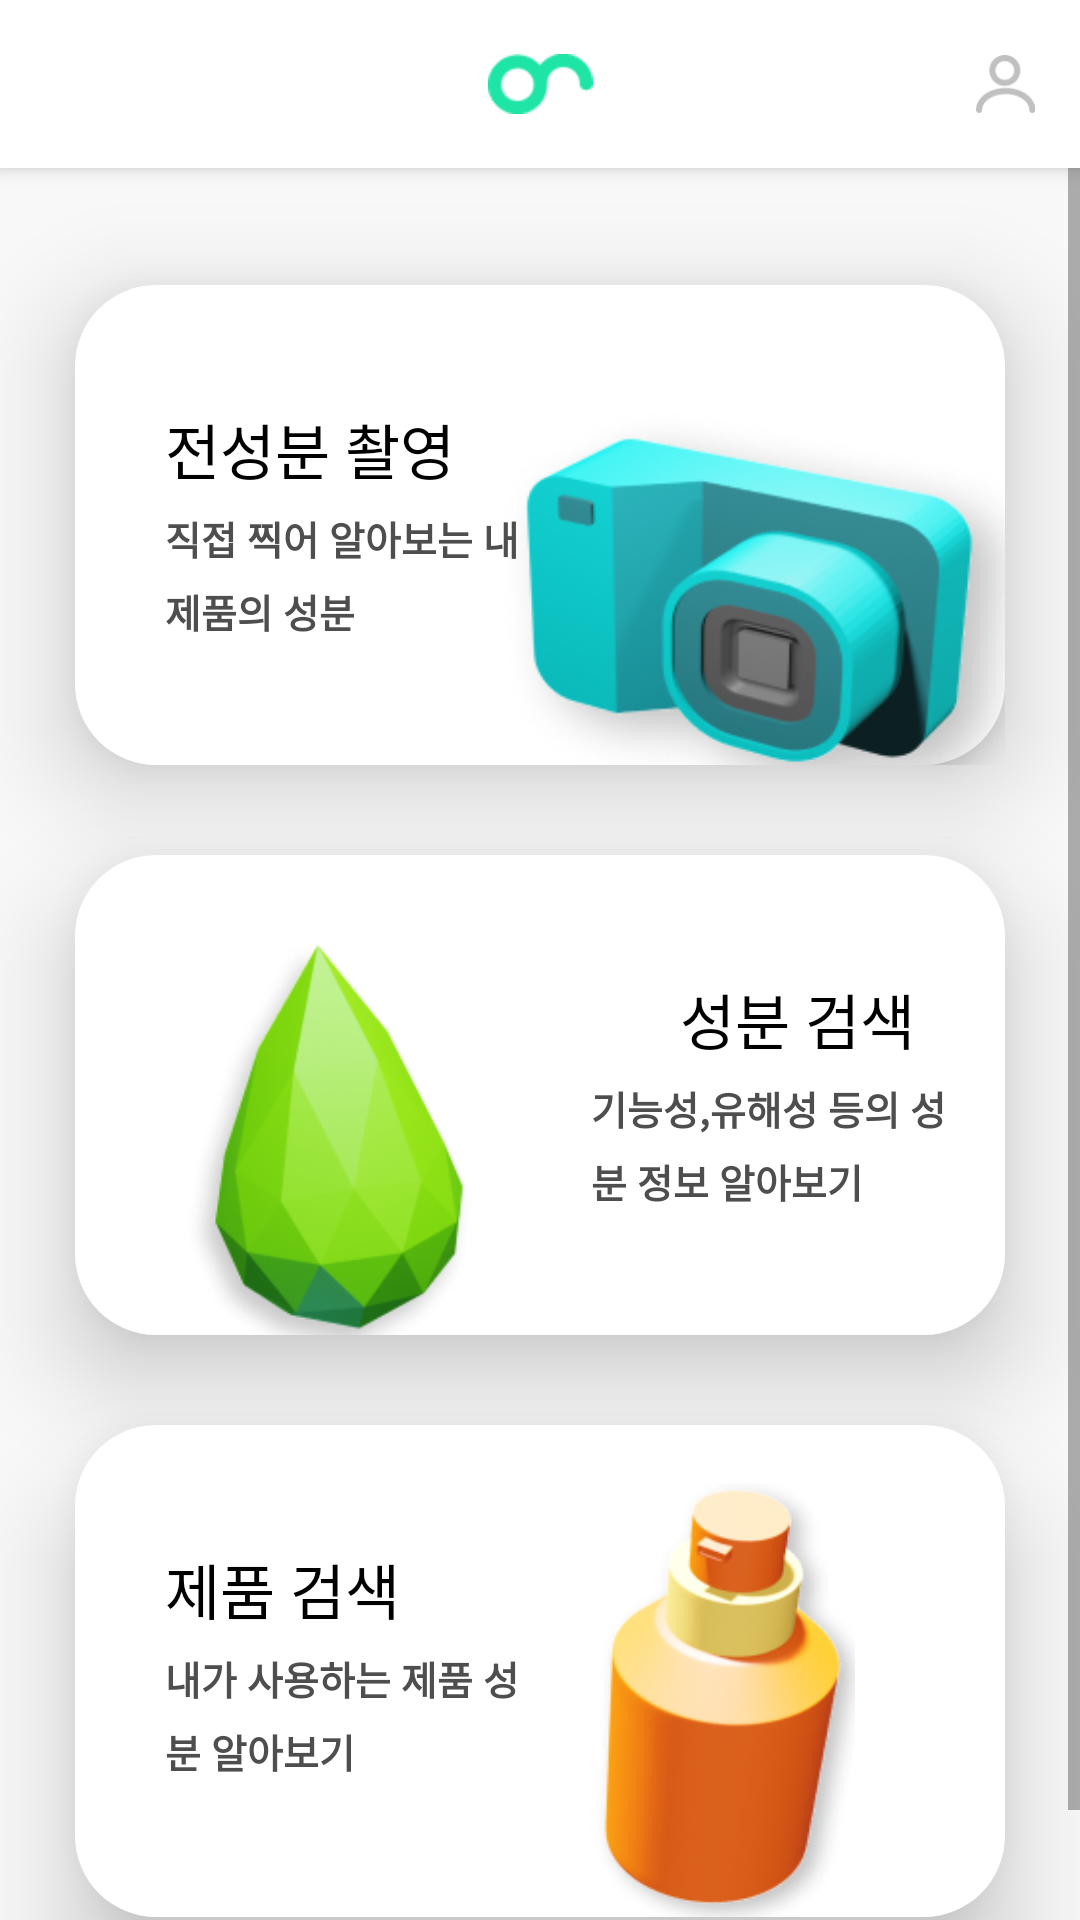

Where icons sit on this 1080px×1920px app screen, as (x1,y1,x2,y2):
mypage: (976,55,1035,113)
